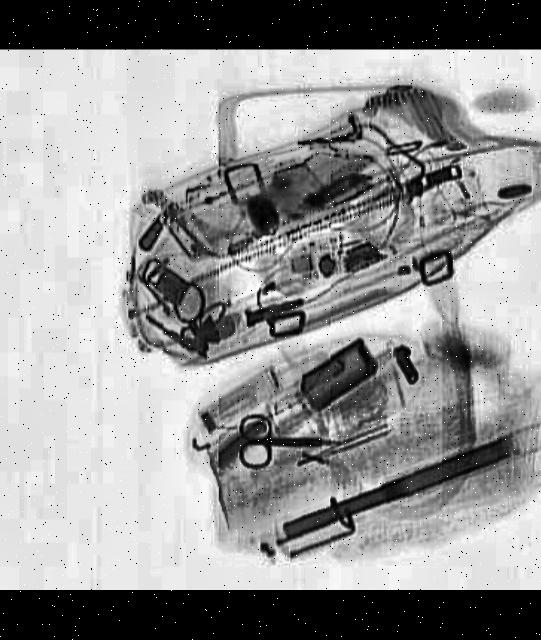Scissors: (240, 418, 329, 473)
